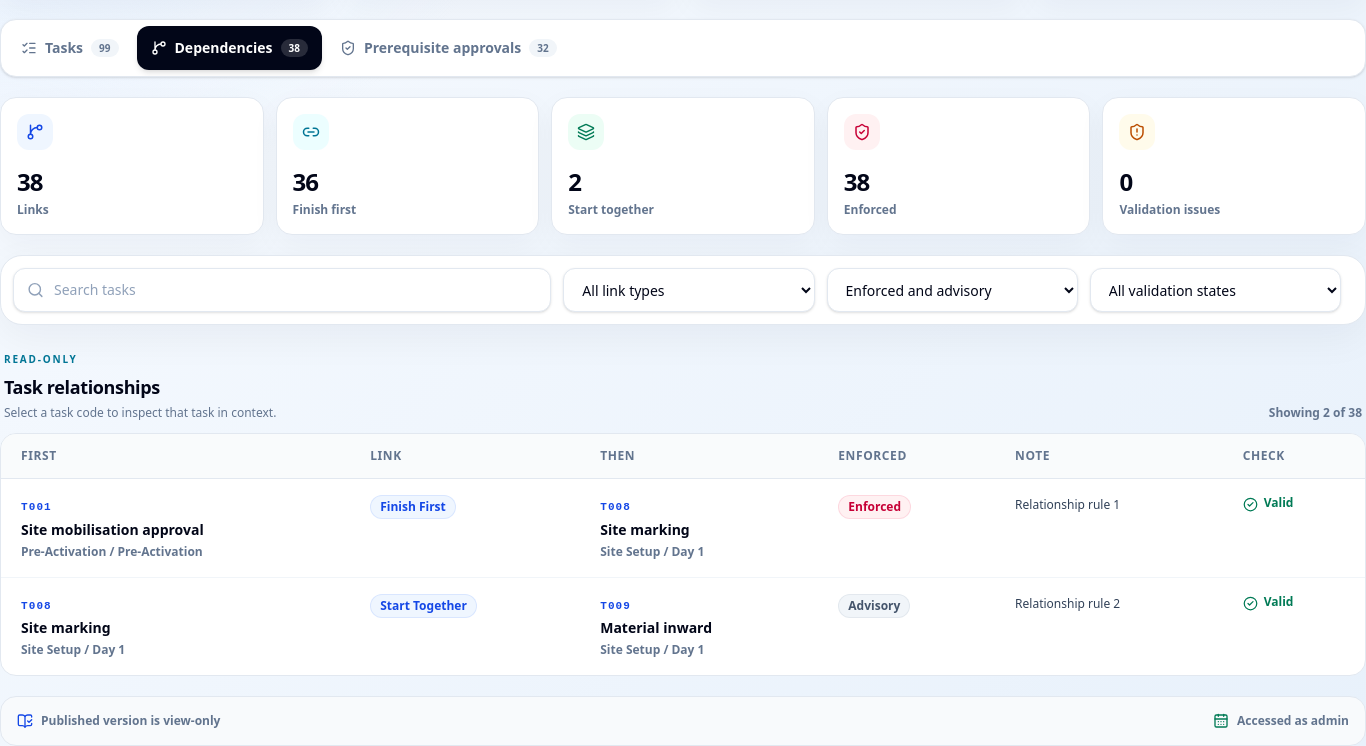
Test: Template dependency details › switches to Tasks and focuses the selected dependency task code while preserving the version
(page scrolled)
Expected: the heading "Task relationships" is shown, top-left (4, 375), bottom-right (160, 399)
Click the button titled "Open T001 in Tasks". click: (112, 527)
box: top-left (21, 495), bottom-right (204, 560)
(page scrolled)
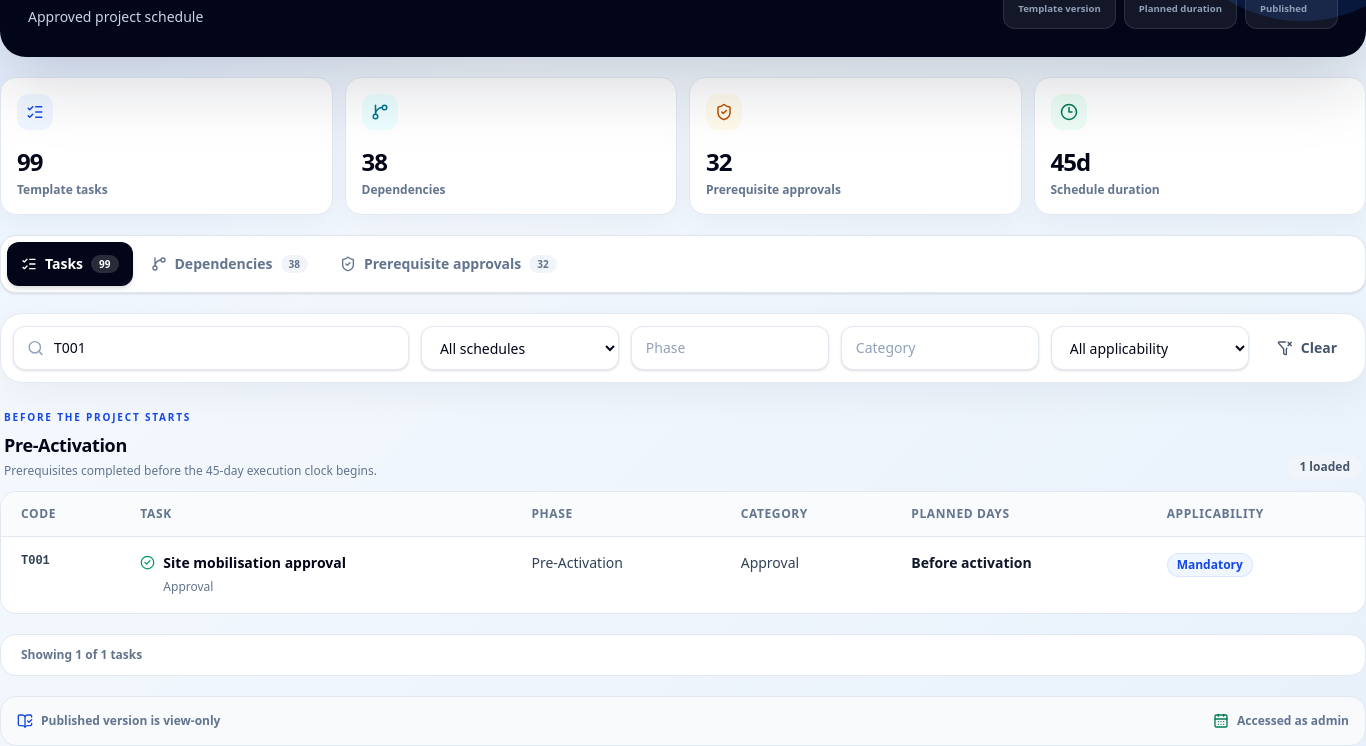
Now the field named "Search template tasks" holds "T001", box top-left (13, 326), bottom-right (409, 370)
Click the tab "Dependencies 38". click: (229, 264)
box: top-left (136, 242), bottom-right (322, 286)
(page scrolled)
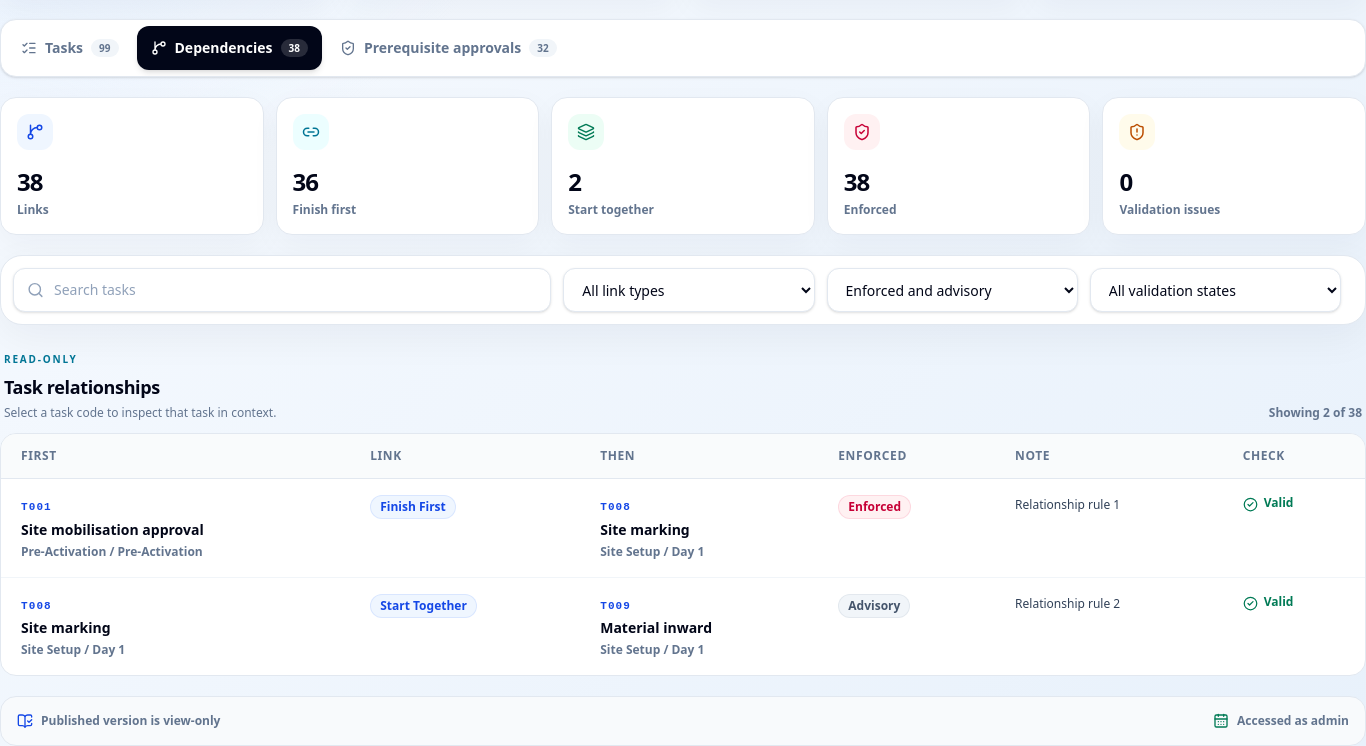
Now the heading "Task relationships" is shown, box top-left (4, 375), bottom-right (160, 399)
